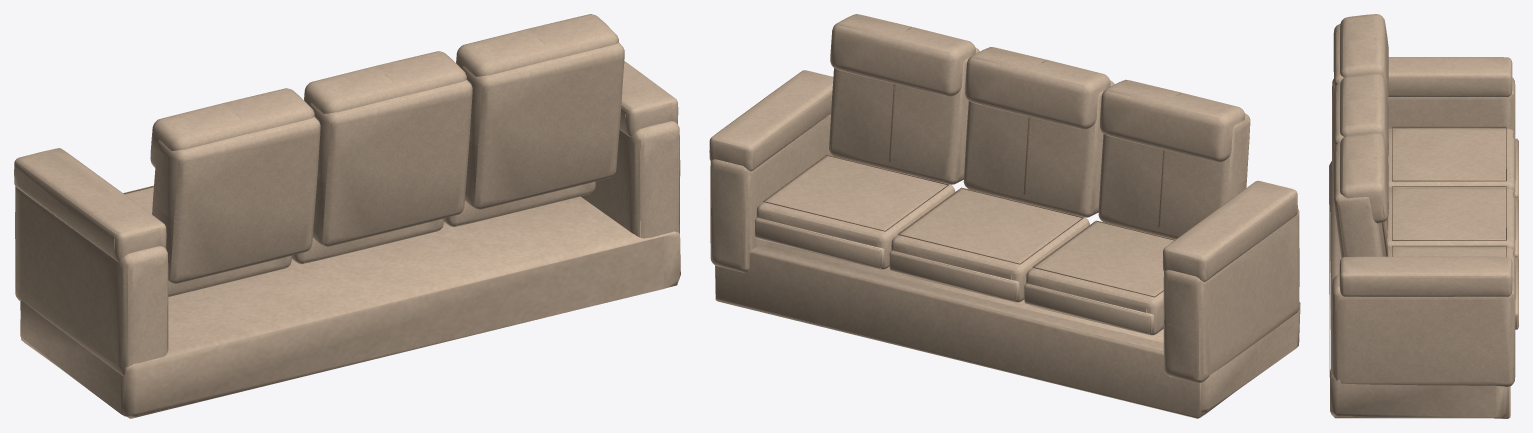
The model's file is drake-3-seater.glb.
3 views of the same model, side by side, from view 1: azimuth 30°, elevation 25°; view 2: azimuth 150°, elevation 25°; view 3: azimuth 270°, elevation 25° (orthographic). The views are drawn at different scales.
Parts seen in each view (by area): view 1: 3S_Frame, 3S_Back_3, 3S_Back_2, 3S_Back_1, 3S_Arm_R, 3S_Arm_R_TopPad, 3S_Arm_L, 3S_Back_3_Headrest, 3S_Back_2_Headrest, 3S_Back_1_Headrest, 3S_Arm_L_TopPad, 3S_Seat_3 (+2 smaller); view 2: 3S_FrontApron, 3S_Arm_R, 3S_Back_2, 3S_Back_1, 3S_Back_3, 3S_Seat_1, 3S_Seat_2, 3S_Seat_3, 3S_Back_1_Headrest, 3S_Back_3_Headrest, 3S_Back_2_Headrest, 3S_Arm_L (+8 smaller); view 3: 3S_Arm_L, 3S_Seat_2, 3S_Seat_3, 3S_Frame, 3S_Arm_L_TopPad, 3S_Arm_R_TopPad, 3S_Arm_R, 3S_Back_1_Headrest, 3S_Back_1, 3S_Back_3_Headrest, 3S_Back_2_Headrest, 3S_Seat_1 (+8 smaller).
Boxes of the visible parts, <box> form: 3S_Frame: <box>20,196,680,418</box>; 3S_Back_3: <box>152,116,320,283</box>; 3S_Back_2: <box>309,79,472,246</box>; 3S_Back_1: <box>461,42,624,209</box>; 3S_Arm_R: <box>15,186,168,375</box>; 3S_Arm_R_TopPad: <box>14,148,166,261</box>; 3S_Arm_L: <box>581,114,680,238</box>; 3S_Back_3_Headrest: <box>150,88,314,167</box>; 3S_Back_2_Headrest: <box>304,51,466,113</box>; 3S_Back_1_Headrest: <box>456,14,618,76</box>; 3S_Arm_L_TopPad: <box>619,61,678,136</box>; 3S_Seat_3: <box>123,185,291,296</box>; 3S_FrontApron: <box>715,244,1206,418</box>; 3S_Arm_R: <box>1163,208,1299,383</box>; 3S_Back_2: <box>963,63,1114,217</box>; 3S_Back_1: <box>829,37,979,184</box>; 3S_Back_3: <box>1098,96,1250,239</box>; 3S_Seat_1: <box>756,155,955,269</box>; 3S_Seat_2: <box>891,189,1089,302</box>; 3S_Seat_3: <box>1026,221,1175,335</box>; 3S_Back_1_Headrest: <box>830,14,975,96</box>; 3S_Back_3_Headrest: <box>1099,79,1245,162</box>; 3S_Back_2_Headrest: <box>965,47,1110,129</box>; 3S_Arm_L: <box>710,114,833,272</box>; 3S_Arm_L: <box>1332,274,1515,386</box>; 3S_Seat_2: <box>1387,187,1515,251</box>; 3S_Seat_3: <box>1388,128,1515,192</box>; 3S_Frame: <box>1329,161,1507,418</box>; 3S_Arm_L_TopPad: <box>1339,256,1512,296</box>; 3S_Arm_R_TopPad: <box>1388,57,1512,97</box>; 3S_Arm_R: <box>1332,77,1515,172</box>; 3S_Back_1_Headrest: <box>1340,132,1388,223</box>; 3S_Back_1: <box>1333,142,1387,258</box>; 3S_Back_3_Headrest: <box>1340,14,1388,97</box>; 3S_Back_2_Headrest: <box>1340,73,1388,157</box>; 3S_Seat_1: <box>1388,247,1515,299</box>.
Bounding box in the file's own units: 2.23 × 1.02 × 0.8157.
2 materials, 1 textured.
